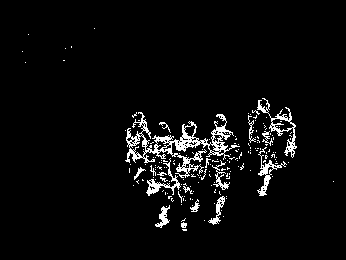person: (204, 111, 245, 226), (174, 119, 206, 233), (148, 118, 180, 229), (262, 104, 297, 201), (123, 107, 156, 207), (245, 95, 270, 183)
